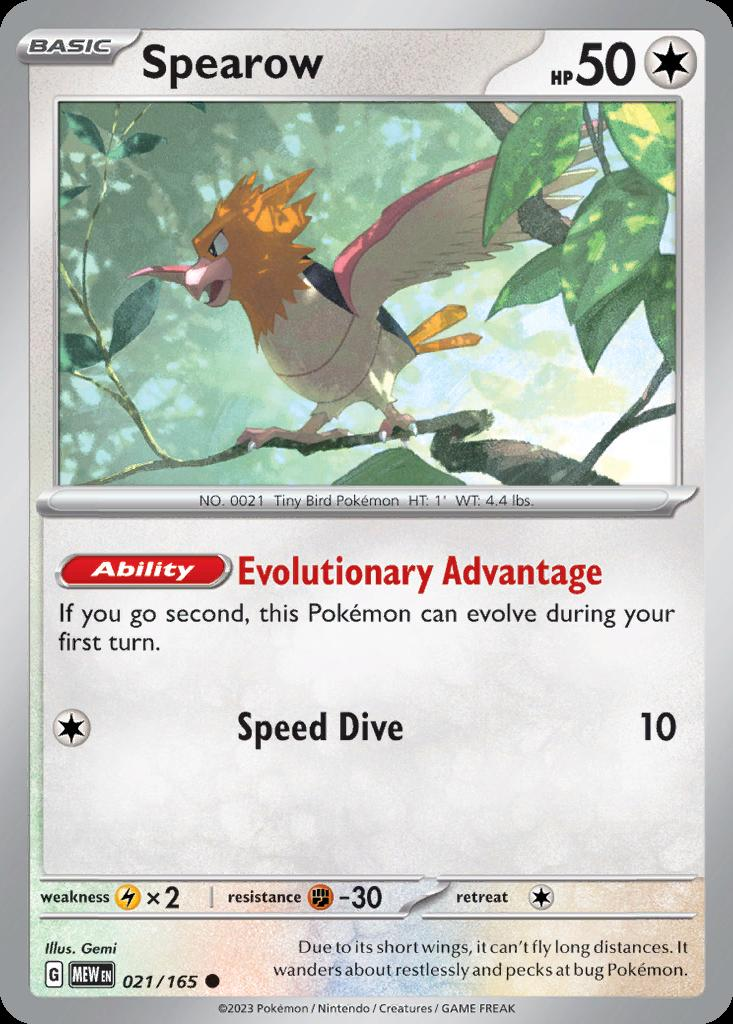card: (1, 0, 733, 1024)
hp: (539, 29, 706, 97)
name: (127, 26, 356, 97)
set num: (121, 959, 226, 997)
set symbol: (37, 957, 121, 993)
